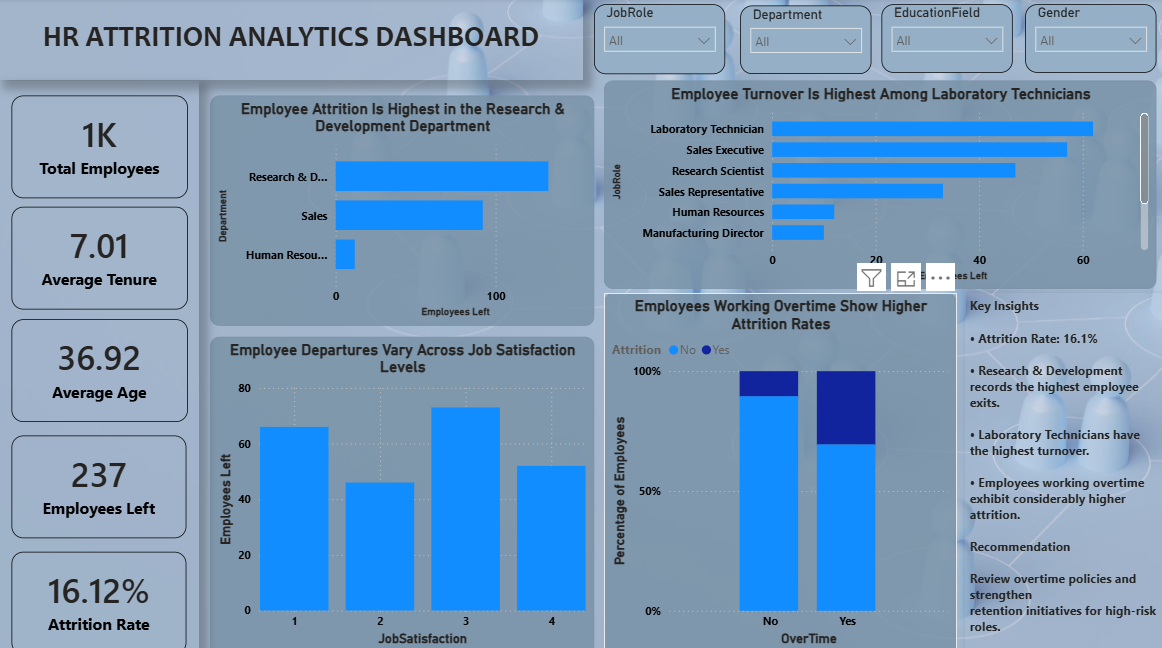

What the dashboard file says about the page in this screenshot:
{"tool":"powerbi","page":{"name":"Page 1","canvas":[1280,720],"ordinal":0},"visuals":[{"type":"image","box":[0,0,1280.3,720.4],"z":0},{"type":"cardVisual","fields":{"Data":["WA_Fn-UseC_-HR-Employee-Attrition.Attrition Rate"]},"box":[13.7,607.9,192.1,112.5],"z":2000},{"type":"textbox","box":[0,0,640.8,90.6],"z":2500},{"type":"clusteredBarChart","title":"Employee Attrition Is Highest in the Research & Development Department","fields":{"Category":["WA_Fn-UseC_-HR-Employee-Attrition.Department"],"Y":["WA_Fn-UseC_-HR-Employee-Attrition.Employees Left"]},"box":[231.9,107,421.3,252.5],"z":3000},{"type":"barChart","title":"Employee Turnover Is Highest Among Laboratory Technicians","fields":{"Category":["WA_Fn-UseC_-HR-Employee-Attrition.JobRole"],"Y":["WA_Fn-UseC_-HR-Employee-Attrition.Employees Left"]},"box":[664.2,90.6,606.5,229.2],"z":4000},{"type":"hundredPercentStackedColumnChart","title":"Employees Working Overtime Show Higher Attrition Rates","fields":{"Category":["WA_Fn-UseC_-HR-Employee-Attrition.OverTime"],"Series":["WA_Fn-UseC_-HR-Employee-Attrition.Attrition"],"Y":["WA_Fn-UseC_-HR-Employee-Attrition.Employee Count"]},"box":[664.2,323.8,387,396.6],"z":5000},{"type":"slicer","fields":{"Values":["WA_Fn-UseC_-HR-Employee-Attrition.Department"]},"box":[813.7,8.2,144.1,75.5],"z":6000},{"type":"slicer","fields":{"Values":["WA_Fn-UseC_-HR-Employee-Attrition.JobRole"]},"box":[653.2,6.9,144.1,76.8],"z":7000},{"type":"slicer","fields":{"Values":["WA_Fn-UseC_-HR-Employee-Attrition.Gender"]},"box":[1126.6,6.9,144.1,75.5],"z":8000},{"type":"slicer","fields":{"Values":["WA_Fn-UseC_-HR-Employee-Attrition.EducationField"]},"box":[968.8,6.9,144.1,75.5],"z":9000},{"type":"clusteredColumnChart","title":"Employee Departures Vary Across Job Satisfaction Levels","fields":{"Category":["WA_Fn-UseC_-HR-Employee-Attrition.JobSatisfaction"],"Y":["WA_Fn-UseC_-HR-Employee-Attrition.Employees Left"]},"box":[231.9,371.9,421.3,348.5],"z":10000},{"type":"shape","box":[0,90.6,219.6,629.8],"z":11000},{"type":"cardVisual","fields":{"Data":["WA_Fn-UseC_-HR-Employee-Attrition.Total Employees"]},"box":[13.7,107,193.5,112.5],"z":12000},{"type":"cardVisual","fields":{"Data":["WA_Fn-UseC_-HR-Employee-Attrition.Average Tenure"]},"box":[13.7,229.2,193.5,112.5],"z":13000},{"type":"cardVisual","fields":{"Data":["WA_Fn-UseC_-HR-Employee-Attrition.Average Age"]},"box":[13.7,352.7,193.5,112.5],"z":14000},{"type":"cardVisual","fields":{"Data":["WA_Fn-UseC_-HR-Employee-Attrition.Employees Left"]},"box":[13.7,480.3,192.1,112.5],"z":15000},{"type":"textbox","box":[1060.7,323.8,219.6,396.6],"z":15001}]}

Visuals, with their boxes in screenshot pixels (x1, y1, x2, y2), scaled from the page's 1280x720 canvas onto the 1162x648 screenshot:
image: l=0, t=0, r=1161, b=647
cardVisual - WA_Fn-UseC_-HR-Employee-Attrition.Attrition Rate: l=12, t=547, r=187, b=647
textbox: l=0, t=0, r=582, b=82
"Employee Attrition Is Highest in the Research & Development Department" clusteredBarChart: l=211, t=96, r=593, b=324
"Employee Turnover Is Highest Among Laboratory Technicians" barChart: l=603, t=82, r=1154, b=288
"Employees Working Overtime Show Higher Attrition Rates" hundredPercentStackedColumnChart: l=603, t=291, r=954, b=647
slicer - WA_Fn-UseC_-HR-Employee-Attrition.Department: l=739, t=7, r=870, b=75
slicer - WA_Fn-UseC_-HR-Employee-Attrition.JobRole: l=593, t=6, r=724, b=75
slicer - WA_Fn-UseC_-HR-Employee-Attrition.Gender: l=1023, t=6, r=1154, b=74
slicer - WA_Fn-UseC_-HR-Employee-Attrition.EducationField: l=879, t=6, r=1010, b=74
"Employee Departures Vary Across Job Satisfaction Levels" clusteredColumnChart: l=211, t=335, r=593, b=647
shape: l=0, t=82, r=199, b=647
cardVisual - WA_Fn-UseC_-HR-Employee-Attrition.Total Employees: l=12, t=96, r=188, b=198
cardVisual - WA_Fn-UseC_-HR-Employee-Attrition.Average Tenure: l=12, t=206, r=188, b=308
cardVisual - WA_Fn-UseC_-HR-Employee-Attrition.Average Age: l=12, t=317, r=188, b=419
cardVisual - WA_Fn-UseC_-HR-Employee-Attrition.Employees Left: l=12, t=432, r=187, b=534
textbox: l=963, t=291, r=1161, b=647
